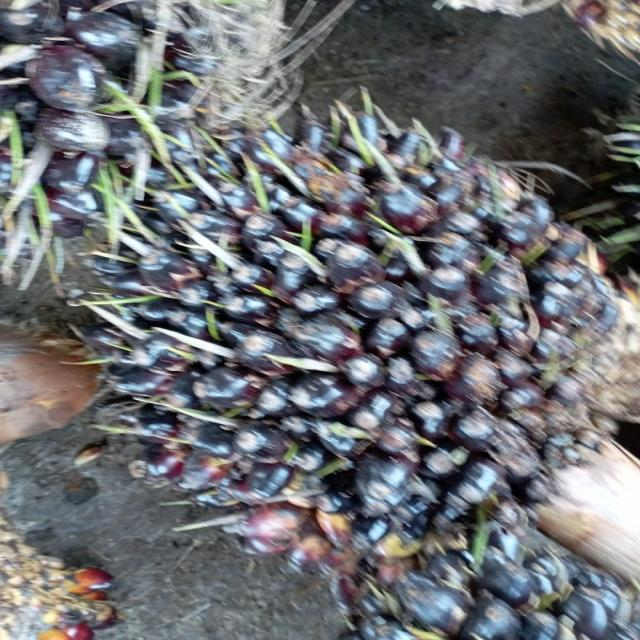fraksi 00: (53, 84, 634, 544)
